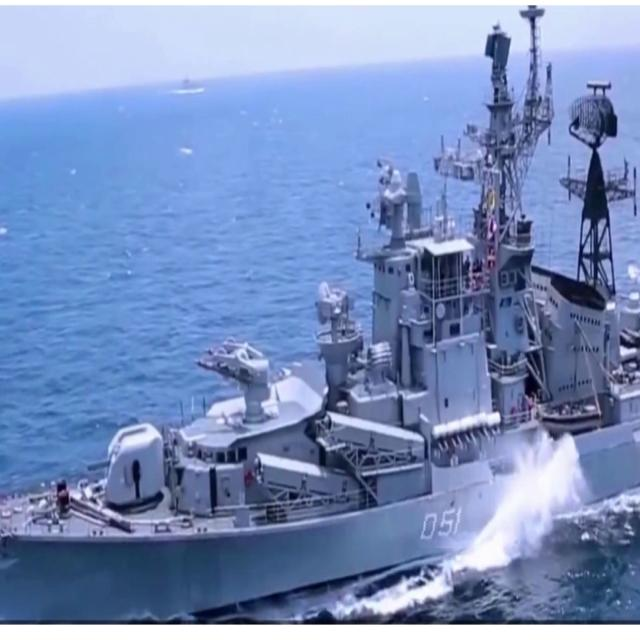OCR: (419, 496, 466, 548)
